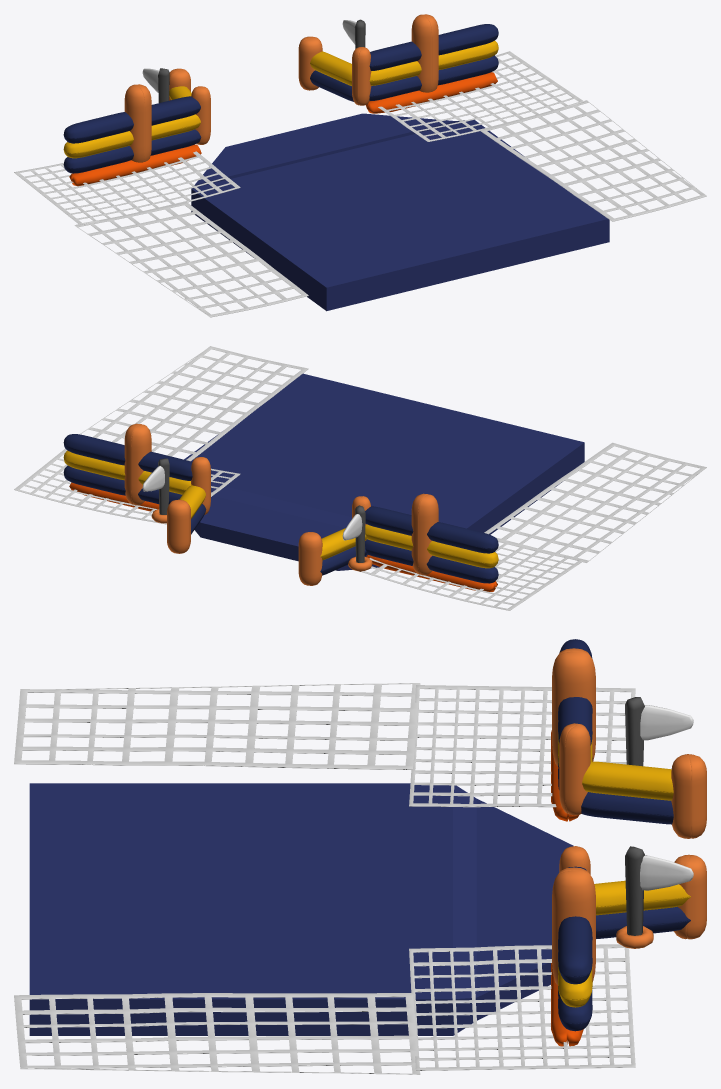
The model's file is baseInicioRetake.fbx.
The picture shows the model from 3 angles, top to bottom: view 1: azimuth 30°, elevation 25°; view 2: azimuth 150°, elevation 25°; view 3: azimuth 270°, elevation 25°; orthographic projection. The views are drawn at different scales.
Parts seen in each view (by area): view 1: baseCorrection, net (×2), verticalFence3 (×2), baseFence (×2), fence3 (×2), fence8 (×2), fence5 (×2), fence4 (×2), verticalFence2 (×2), fence2 (×2), fence1 (×2), flag1 (×2) (+3 smaller); view 2: baseCorrection, net (×2), verticalFence3 (×2), fence3 (×2), verticalFence1 (×2), flag1 (×2), fence5 (×2), fence4 (×2), fence8 (×2), baseFence (×2), fence6 (×2), fence2 (+3 smaller); view 3: baseCorrection, net (×2), flag1 (×2), verticalFence3 (×2), fence6 (×2), verticalFence1 (×2), fence7 (×2), verticalFence2, fence3, fence8, baseFence, fence5 (+1 smaller).
Boxes of the visible parts, x1,y1,x2,y2 form: baseCorrection: (191,113,609,311); net (×2): (14,51,706,317); verticalFence3 (×2): (124,14,438,162); baseFence (×2): (69,72,497,186); fence3 (×2): (63,24,498,143); fence8 (×2): (151,41,421,125); fence5 (×2): (63,55,498,173); fence4 (×2): (63,40,498,158); verticalFence2 (×2): (191,47,371,144); fence2 (×2): (150,76,421,155); fence1 (×2): (151,61,421,140); flag1 (×2): (142,19,365,102); baseCorrection: (184,373,584,570); net (×2): (14,346,706,610); verticalFence3 (×2): (124,423,438,575); fence3 (×2): (63,434,498,553); verticalFence1 (×2): (167,499,322,585); flag1 (×2): (142,458,372,571); fence5 (×2): (63,465,498,583); fence4 (×2): (63,450,498,568); fence8 (×2): (138,451,413,535); baseFence (×2): (69,482,497,591); fence6 (×2): (179,485,366,560); fence2: (365,539,413,565); baseCorrection: (29,783,573,1035); net (×2): (14,683,635,1074); flag1 (×2): (616,697,693,948); verticalFence3 (×2): (552,648,595,984); fence6 (×2): (582,761,690,915); verticalFence1 (×2): (671,754,706,939); fence7 (×2): (581,792,690,938); verticalFence2: (559,723,590,815); fence3: (558,916,592,984); fence8: (558,697,592,745); baseFence: (551,958,583,1046); fence5: (558,986,592,1031).
Size of the model in its own units: 2886 by 543 by 2163.
